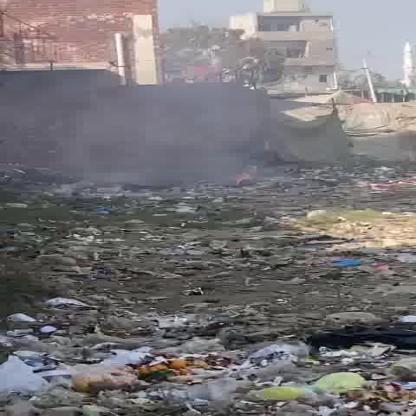Garbage: (8, 169, 416, 416)
